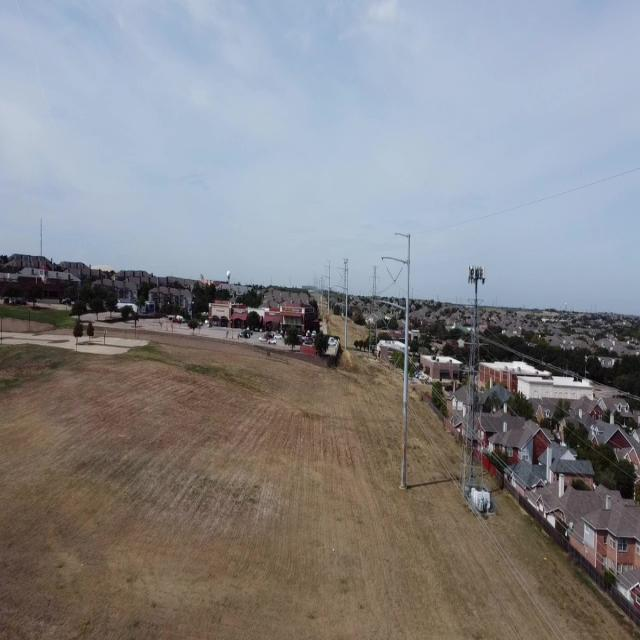杆塔: (457, 257, 493, 504), (368, 263, 380, 360)
